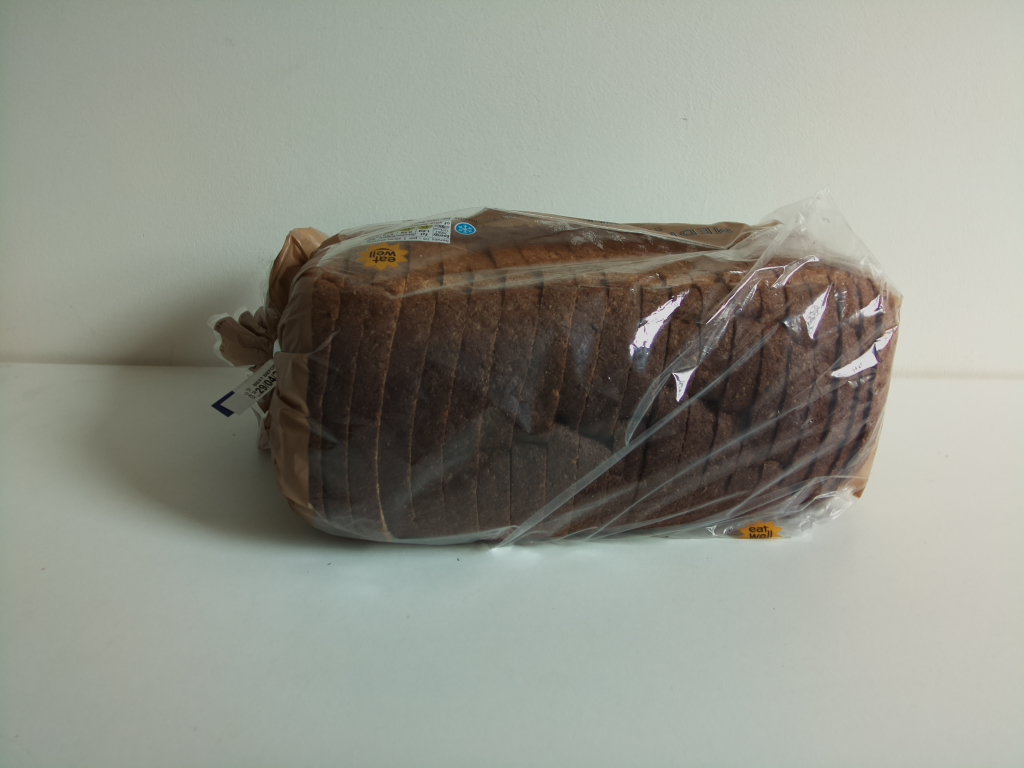bread: (210, 203, 905, 554)
